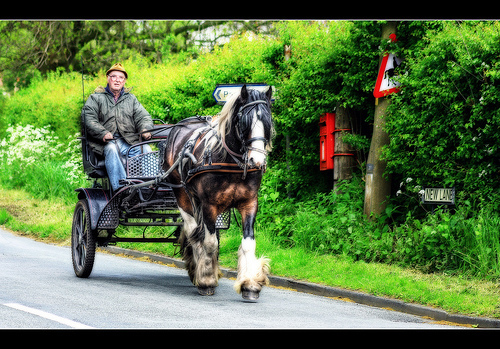horse: (161, 83, 274, 301)
